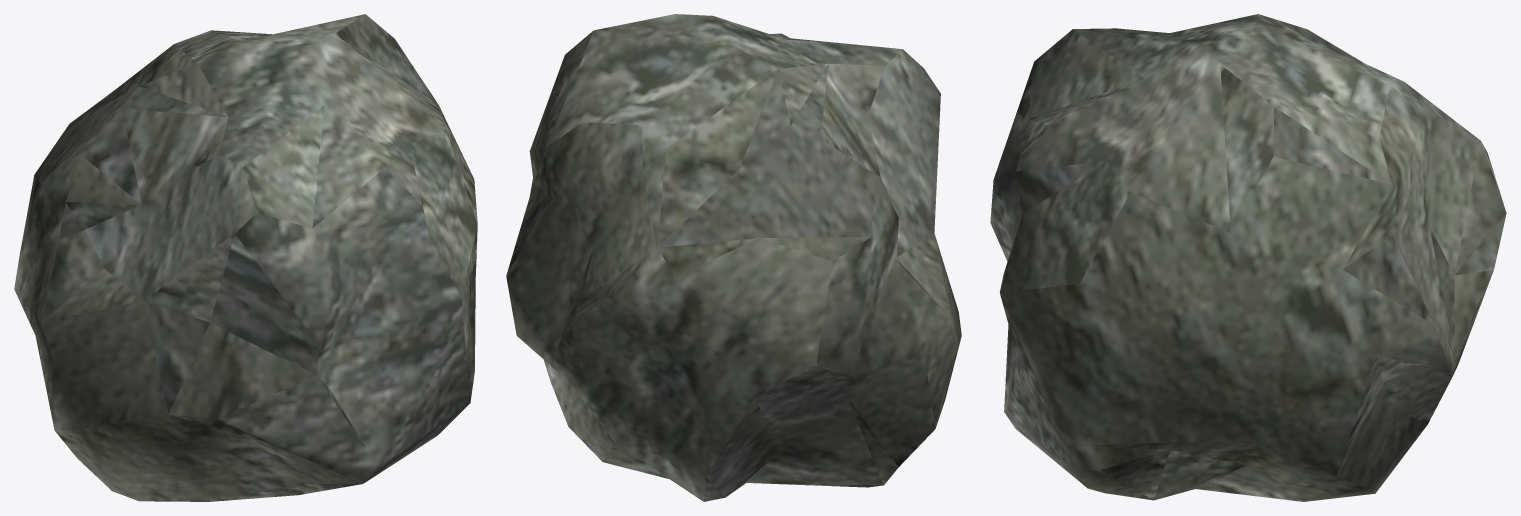
The model's file is rock.glb.
The picture shows the model from 3 angles, left to right: view 1: azimuth 30°, elevation 25°; view 2: azimuth 150°, elevation 25°; view 3: azimuth 270°, elevation 25°; orthographic projection. The views are drawn at different scales.
Visible parts, largest first — view 1: rock; view 2: rock; view 3: rock.
Boxes of the visible parts, x1,y1,x2,y2 form: rock: (14,14,477,501); rock: (506,14,961,501); rock: (990,14,1506,501).
Size of the model in its own units: 100 by 100 by 100.
Materials: 1 (1 with a texture image).
